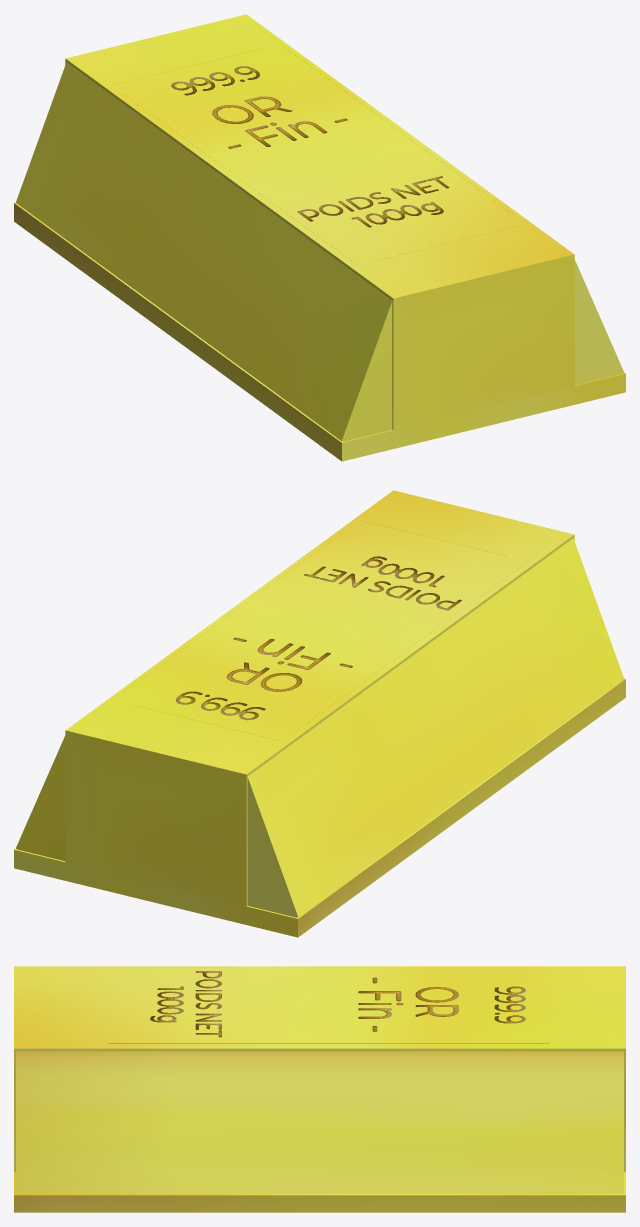
The model's file is gold_ingot.obj.
3 renders of one model, top to bottom at view 1: azimuth 30°, elevation 25°; view 2: azimuth 150°, elevation 25°; view 3: azimuth 270°, elevation 25°, orthographic. The views are drawn at different scales.
Parts seen in each view (by area): view 1: cube, texte; view 2: cube, texte; view 3: cube, texte.
Boxes of the visible parts, <box> form: cube: <box>14,14,625,461</box>; texte: <box>171,66,449,227</box>; cube: <box>14,490,625,937</box>; texte: <box>176,556,461,720</box>; cube: <box>14,966,625,1212</box>; texte: <box>108,971,549,1043</box>.
Bounding box in the file's own units: 0.25 × 0.1282 × 0.5.
